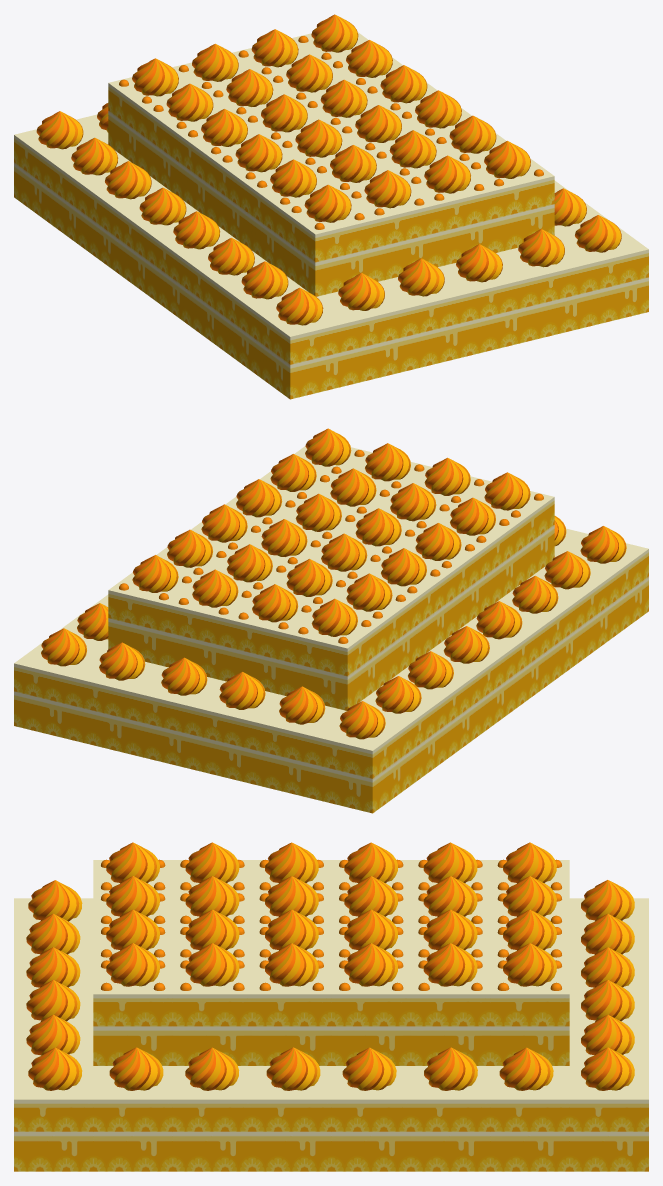
File: Cake_002_Big_.fbx
The picture shows the model from 3 angles, top to bottom: view 1: azimuth 30°, elevation 25°; view 2: azimuth 150°, elevation 25°; view 3: azimuth 270°, elevation 25°; orthographic projection. The views are drawn at different scales.
Visible parts, largest first — view 1: P_06, P_69, P_02, P_04, P_03, P_05, P_01, P_72, P_70, P_71, P_09, P_11 (+27 smaller); view 2: P_13, P_52, P_17, P_15, P_16, P_14, P_18, P_49, P_51, P_50, P_65, P_69 (+27 smaller); view 3: P_24, P_22, P_20, P_18, P_23, P_01, P_19, P_21, P_68, P_57, P_49, P_72 (+30 smaller).
Boxes of the visible parts, x1,y1,x2,y2 form: P_06: (255,287,349,399); P_69: (281,184,375,296); P_02: (496,229,589,340); P_04: (378,258,469,370); P_03: (438,244,529,355); P_05: (317,273,409,384); P_01: (558,215,648,326); P_72: (464,141,554,252); P_70: (345,170,434,281); P_71: (404,155,494,266); P_09: (152,211,239,323); P_11: (83,161,171,272); P_13: (313,701,407,813); P_52: (287,598,381,710); P_17: (73,642,167,754); P_15: (193,671,286,784); P_16: (133,657,226,769); P_14: (253,686,346,798); P_18: (14,628,106,740); P_49: (108,555,199,666); P_51: (228,584,319,696); P_50: (168,569,259,681); P_65: (439,497,519,607); P_69: (474,472,554,584); P_24: (93,1047,172,1171); P_22: (252,1047,331,1171); P_20: (411,1047,490,1171); P_18: (569,1047,648,1171); P_23: (172,1047,251,1171); P_01: (14,1047,93,1171); P_19: (490,1047,569,1171); P_21: (331,1047,410,1171); P_68: (172,943,251,1065); P_57: (331,943,410,1065); P_49: (490,943,569,1065); P_72: (93,943,172,1065).
Size of the model in its own units: 7.49 by 3.1 by 9.99.
